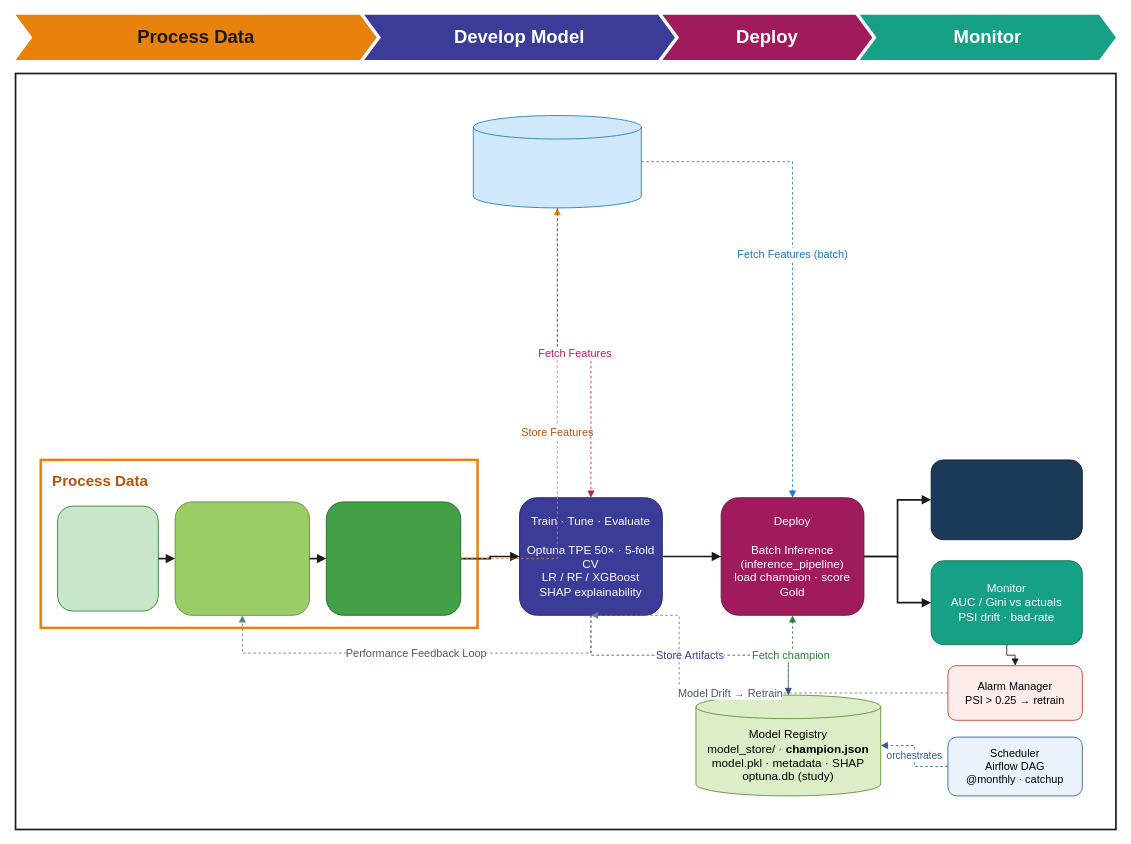
This 1131x844 diagram has some shape labels left out. Here are the shapes that lost their labels. From the top down, the centre of each, then its label:
At point (556, 161): "Feature Store (Gold · Offline) feature_store + label_store point-in-time join".
At point (1006, 499): "Predictions (Gold) schema-validated → downstream".
At point (107, 558): "Collect Data 4 CSV sources".
At point (242, 558): "Preprocess Bronze → Silver clean · YAML-validate".
At point (393, 558): "Engineer Features Gold (build_gold) 70 features + labels".
